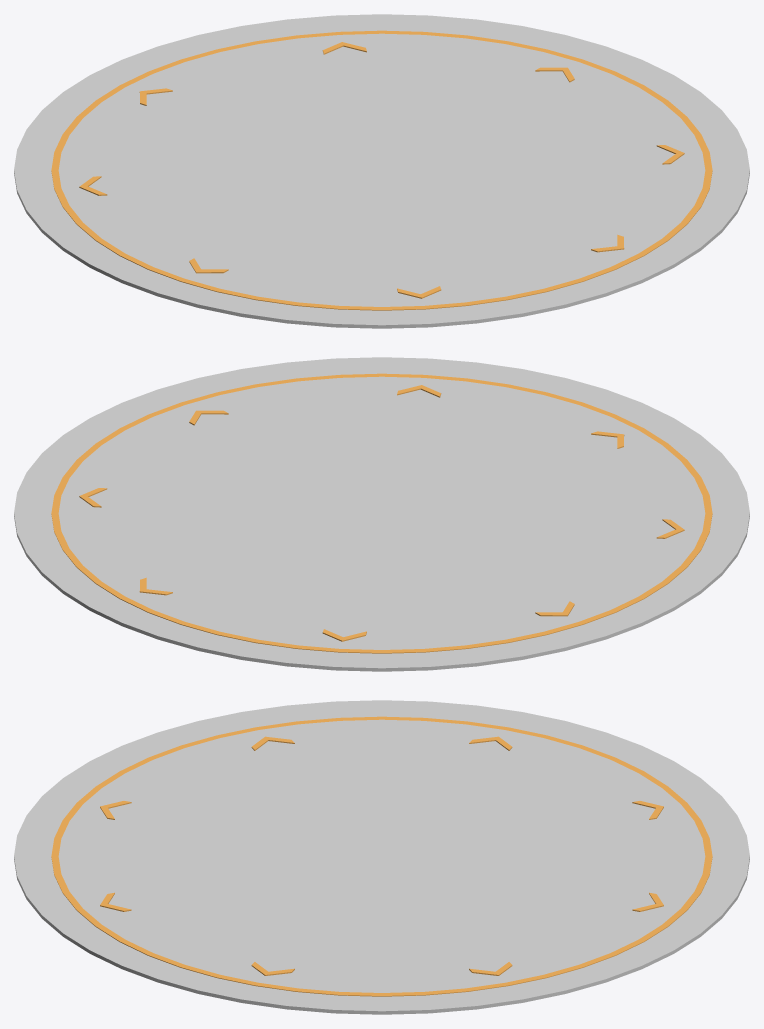
Rendered from SpawnEmblem.glb.
3 renders of one model, top to bottom at view 1: azimuth 30°, elevation 25°; view 2: azimuth 150°, elevation 25°; view 3: azimuth 270°, elevation 25°, orthographic.
Parts seen in each view (by area): view 1: Body, Glow; view 2: Body, Glow; view 3: Body, Glow.
Boxes of the visible parts, x1,y1,x2,y2 form: Body: (14,14,749,328); Glow: (51,30,712,310); Body: (14,357,749,671); Glow: (51,373,712,653); Body: (14,700,749,1014); Glow: (51,716,712,996).
Size of the model in its own units: 30.5 by 0.16 by 30.5.
